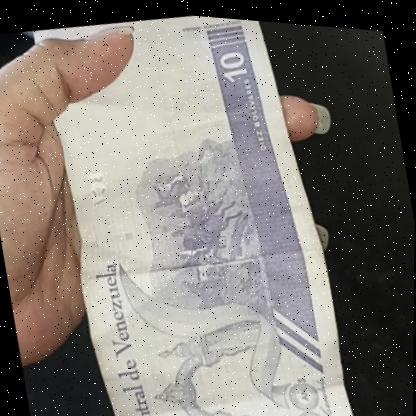ten-back-vef: (33, 2, 358, 416)
